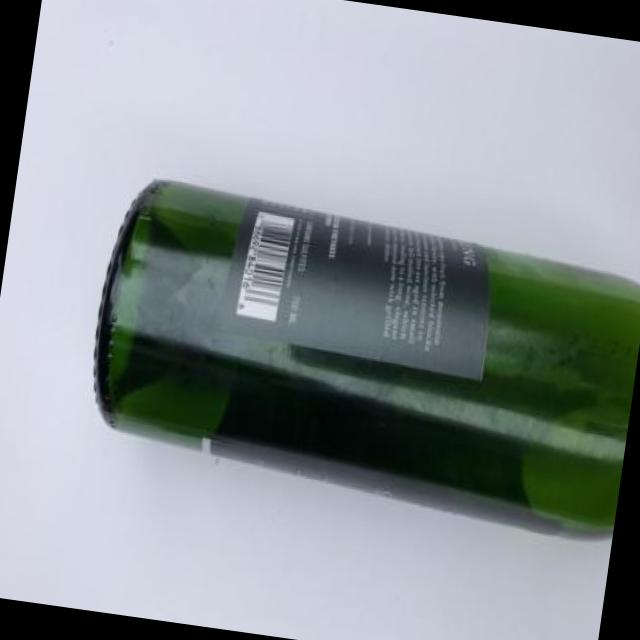chai_thuy_tinh: (95, 181, 640, 533)
